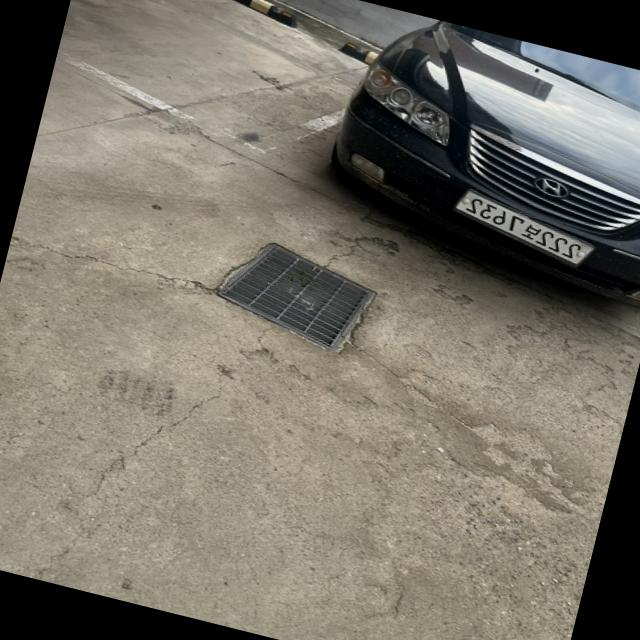drain_area: (222, 243, 368, 349)
drain_full: (219, 245, 370, 348)
